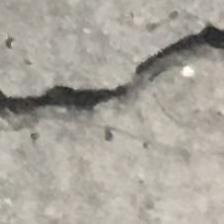Crack: (0, 25, 224, 129)
